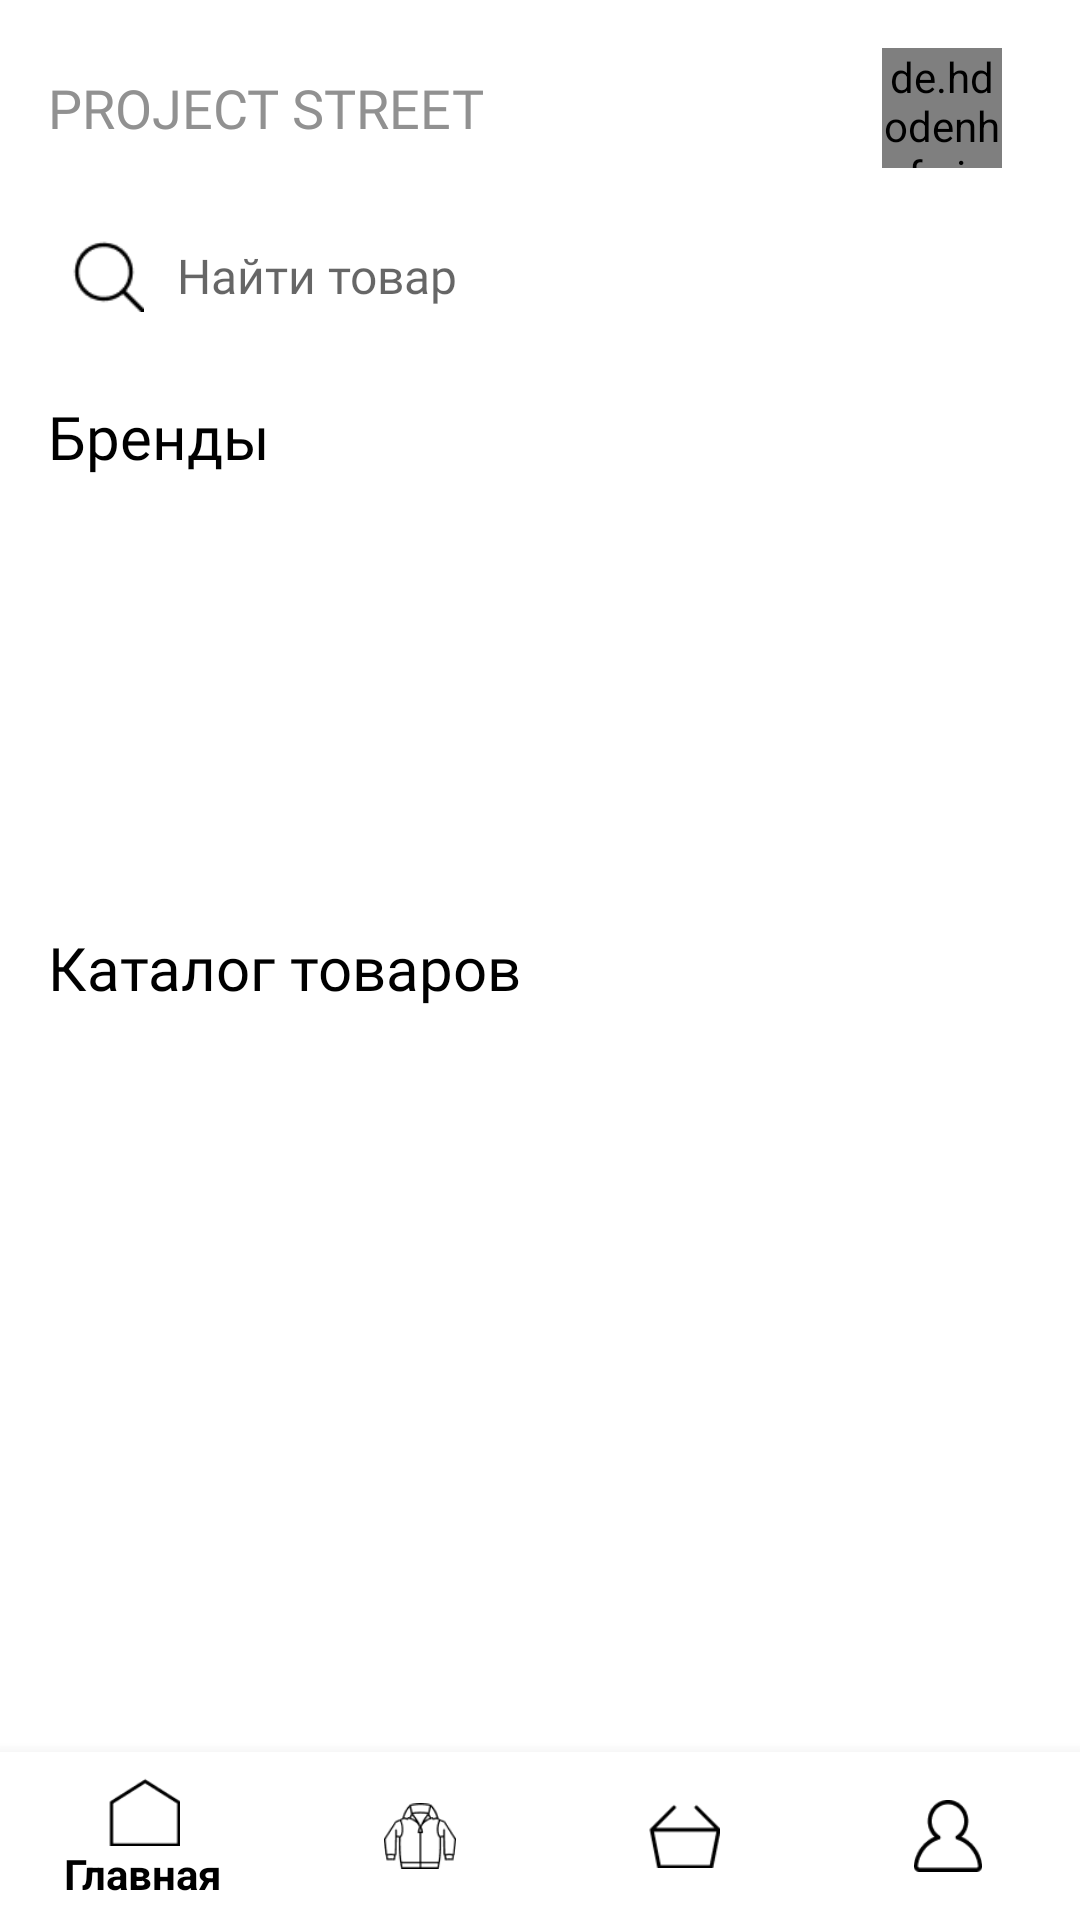

Screen size 1080x1920. Icon name, then its center in pixels as point (x, y):
search: point (108, 277)
